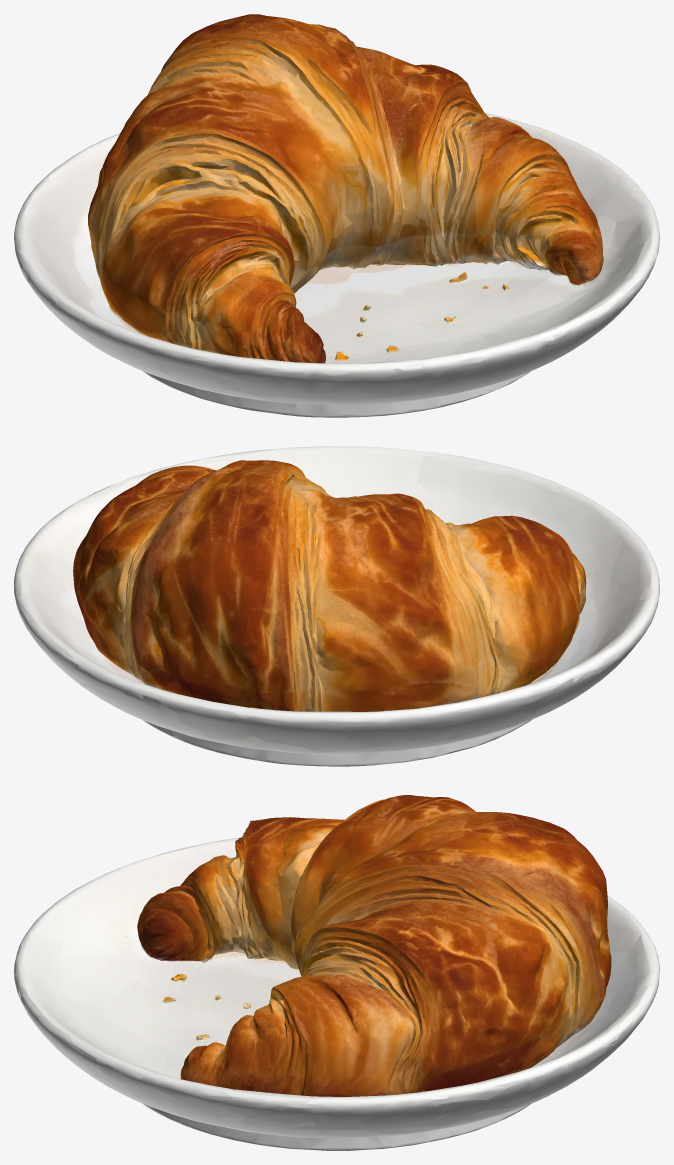
Rendered from croissant.glb.
3 renders of one model, top to bottom at view 1: azimuth 30°, elevation 25°; view 2: azimuth 150°, elevation 25°; view 3: azimuth 270°, elevation 25°, orthographic.
Parts seen in each view (by area): view 1: Mesh_0; view 2: Mesh_0; view 3: Mesh_0.
Part boxes in pixels (x1,y1,x2,y2): Mesh_0: (14, 14, 659, 417); Mesh_0: (14, 446, 659, 766); Mesh_0: (14, 795, 659, 1150).
Bounding box in the file's own units: 1.9 × 0.7844 × 1.9.
Materials: 1 (1 with a texture image).
